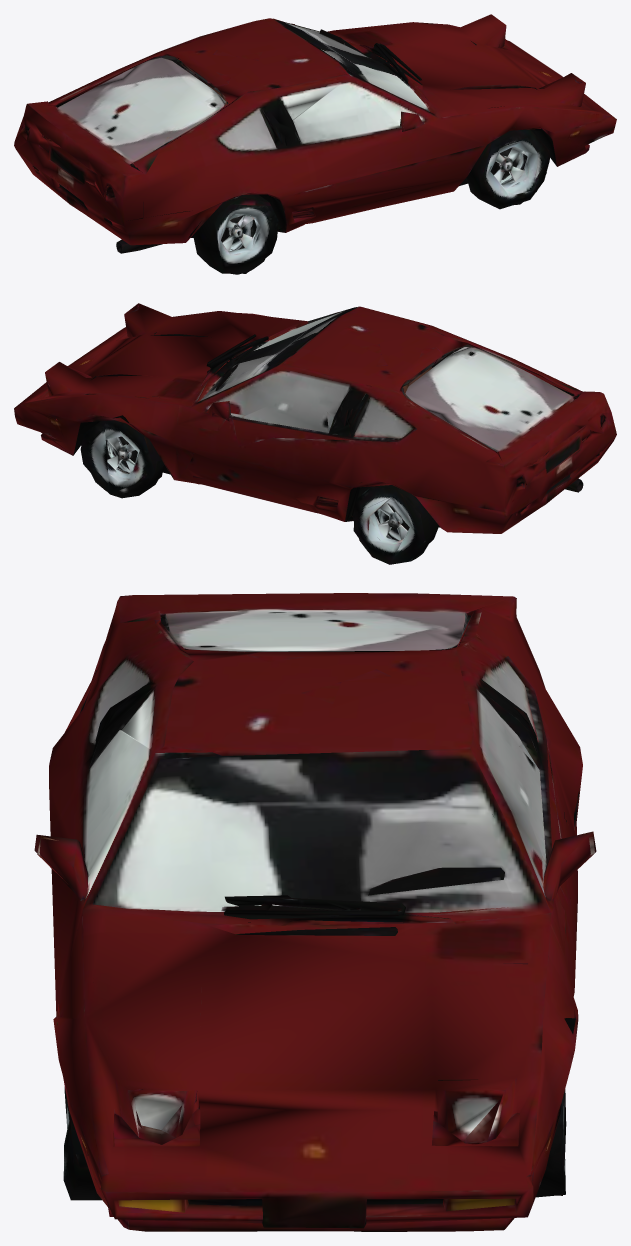
The model's file is car_sport.glb.
The picture shows the model from 3 angles, top to bottom: view 1: azimuth 30°, elevation 25°; view 2: azimuth 150°, elevation 25°; view 3: azimuth 270°, elevation 25°; orthographic projection. The views are drawn at different scales.
Parts seen in each view (by area): view 1: world; view 2: world; view 3: world.
Boxes of the visible parts, <box> form: world: <box>14,14,616,274</box>; world: <box>14,303,616,564</box>; world: <box>34,593,596,1231</box>.
Size of the model in its own units: 0.9972 by 0.2958 by 0.4839.
1 material, 1 textured.
